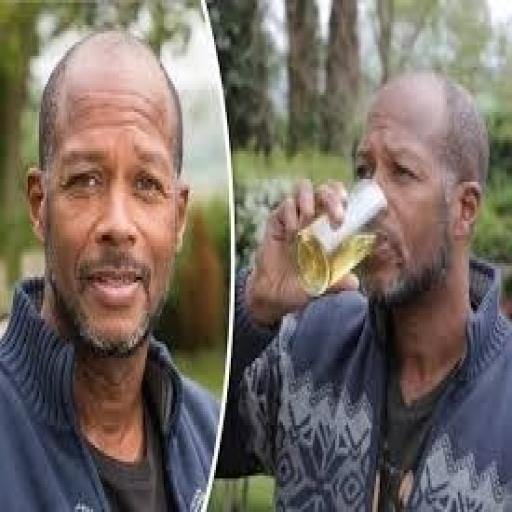drinking: (294, 176, 387, 297)
